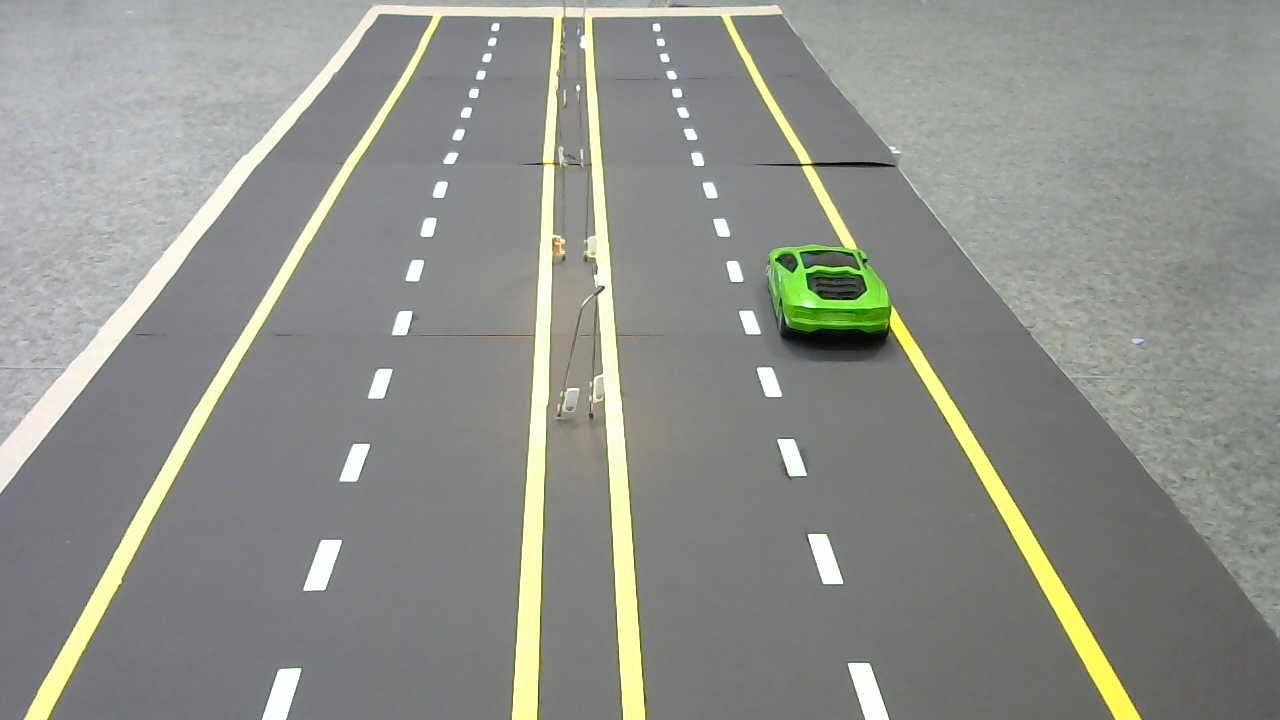back_car: (758, 237, 897, 346)
